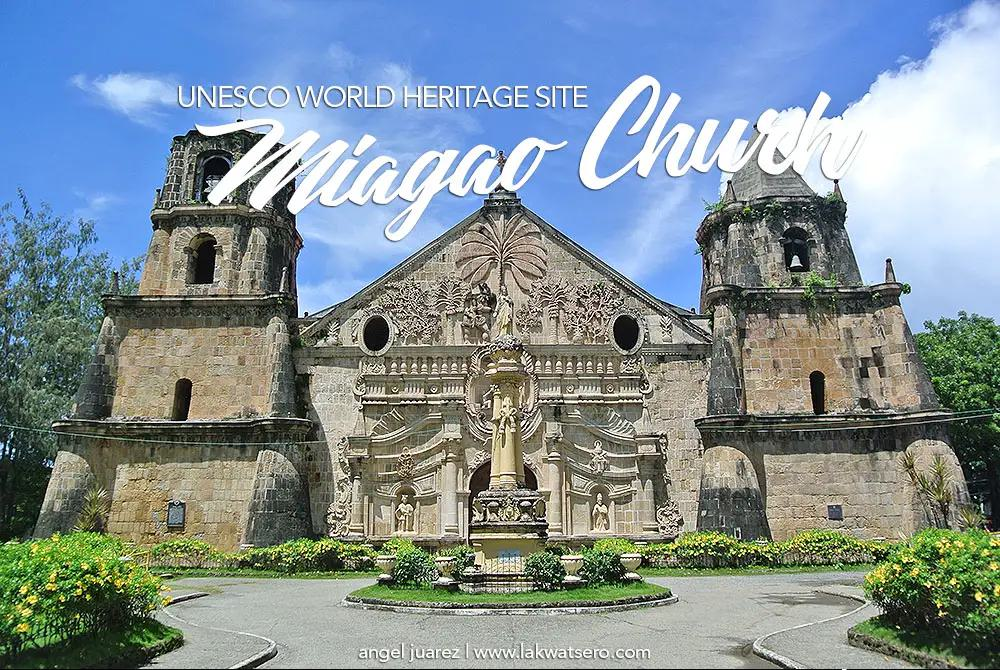Environmental Damage: (765, 267, 848, 318), (730, 196, 804, 226), (817, 191, 846, 231), (895, 279, 917, 302)
Miagao Church: (40, 114, 982, 545)
